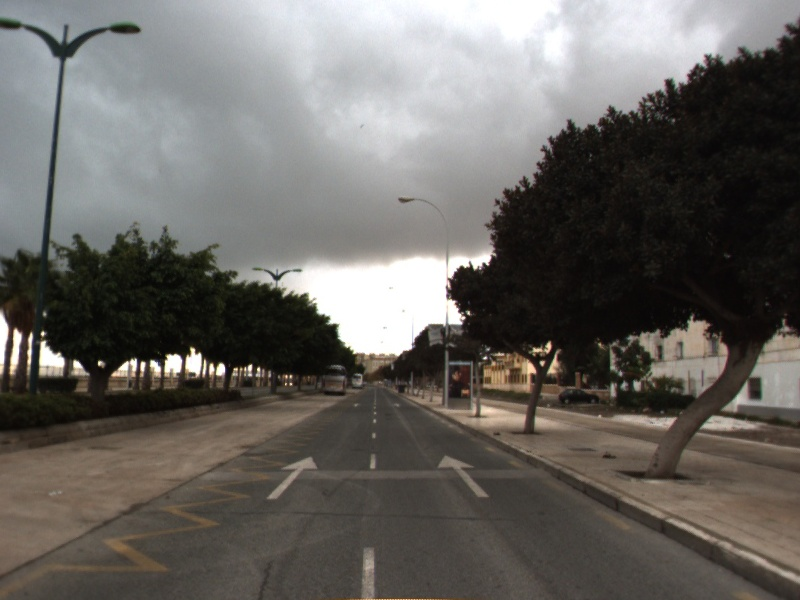STRAIGHT: (265, 455, 320, 502), (436, 453, 492, 499)
